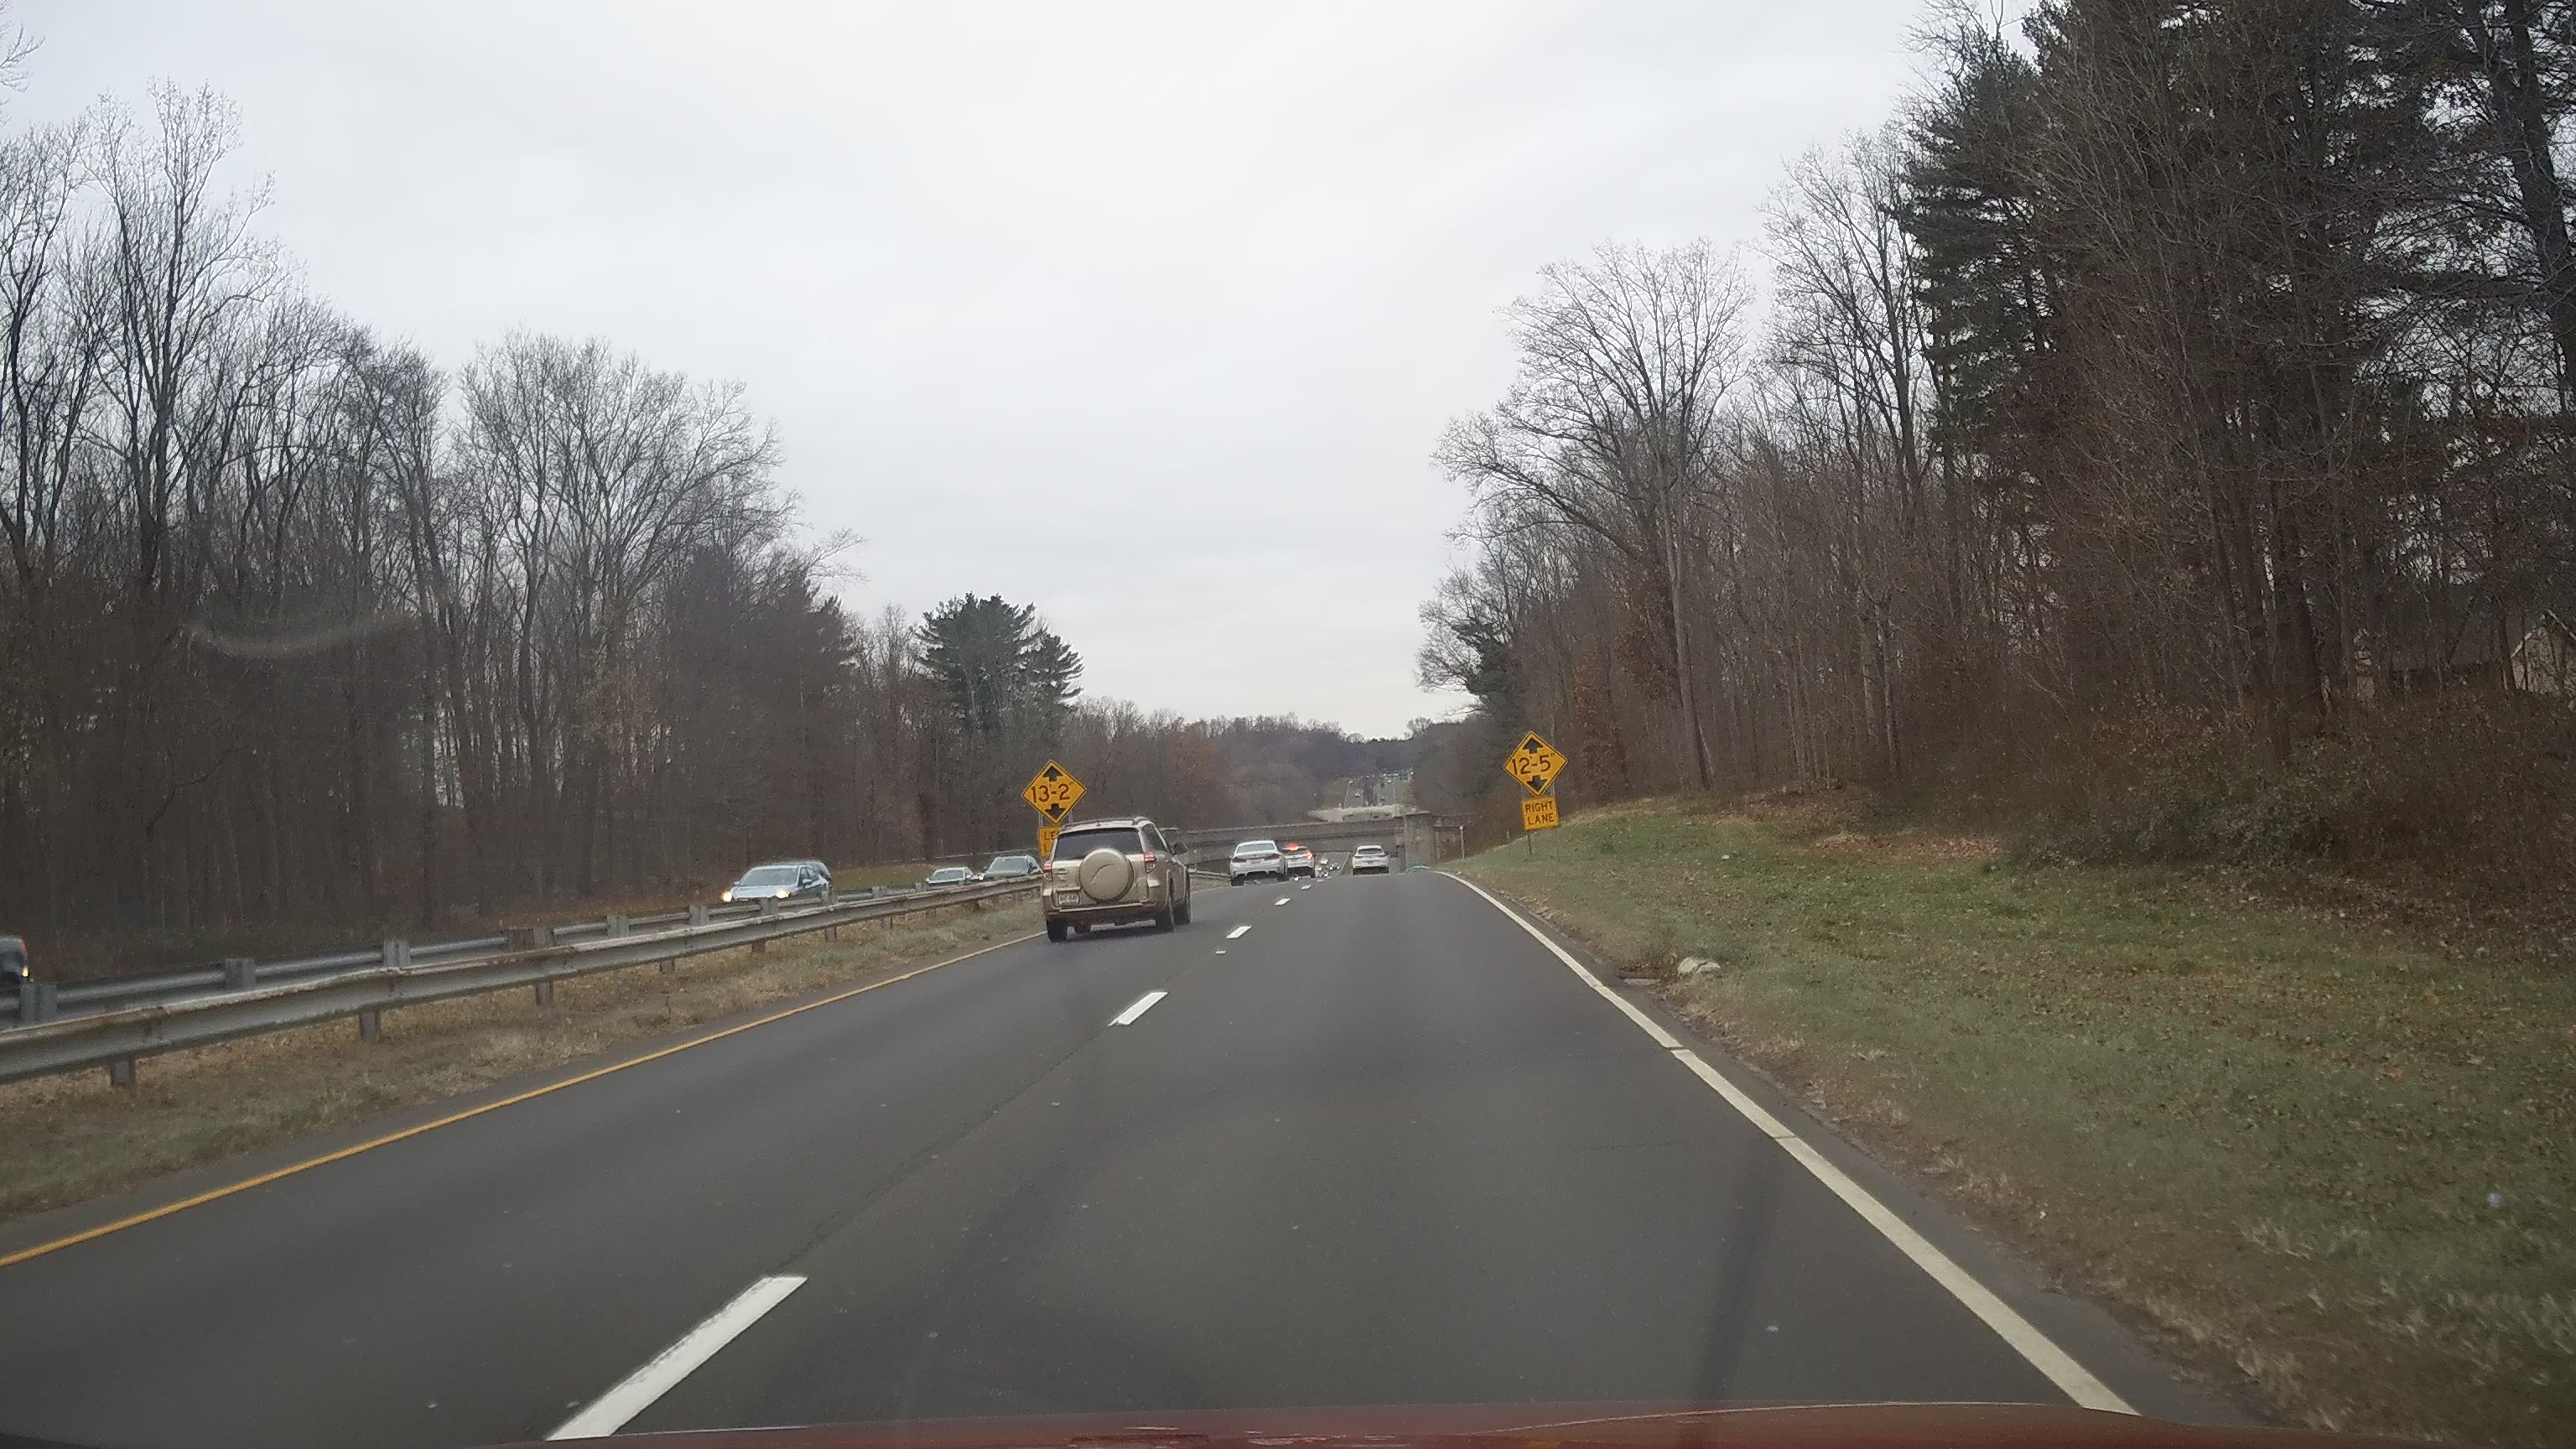low-clearance-sign: (1021, 757, 1088, 826), (1502, 731, 1569, 800)
